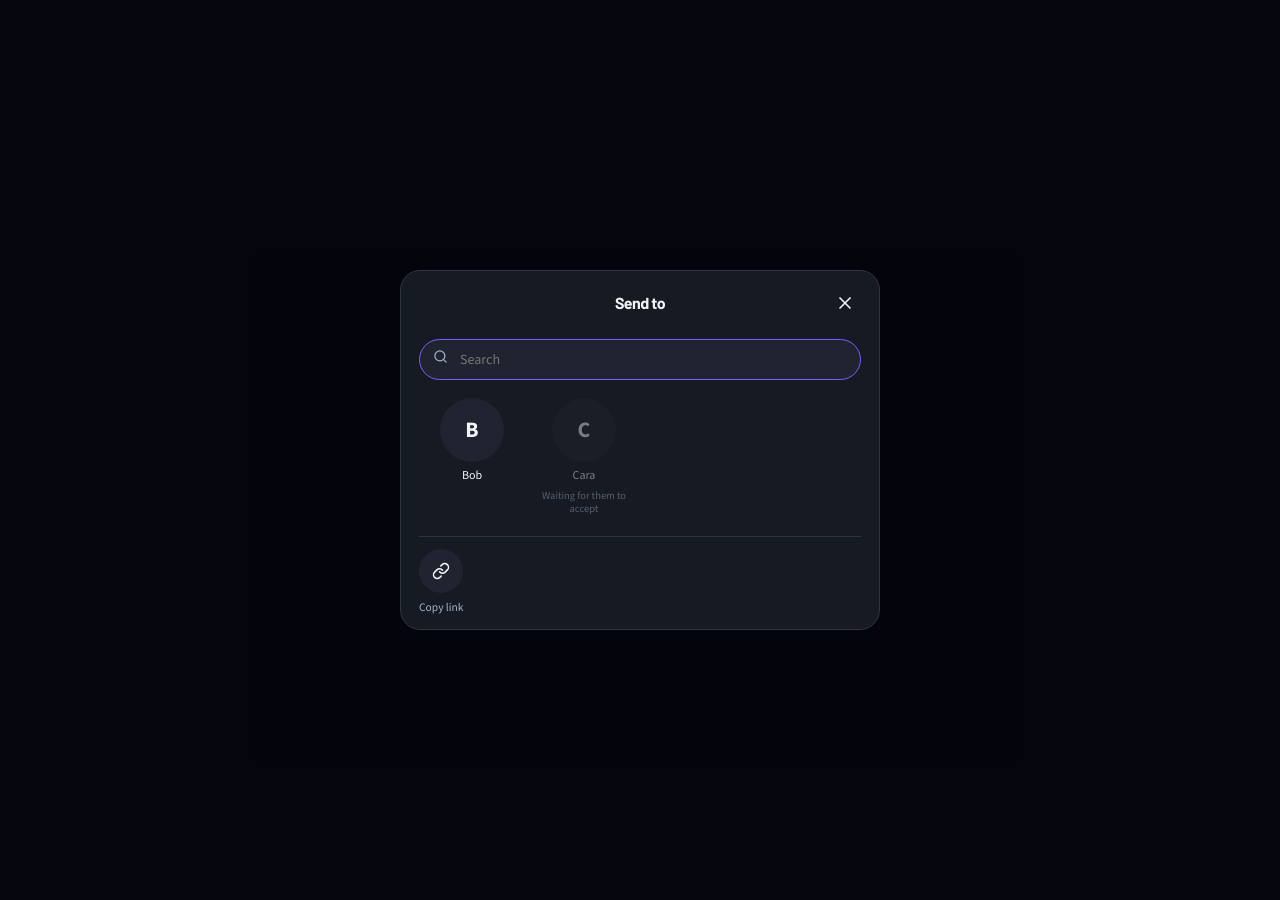
Test case: SharePostDialog › shows no message bar or send button until someone is picked
Click the checkbox labelled "B Bob".
click(472, 456)  # box [419,398,525,514]
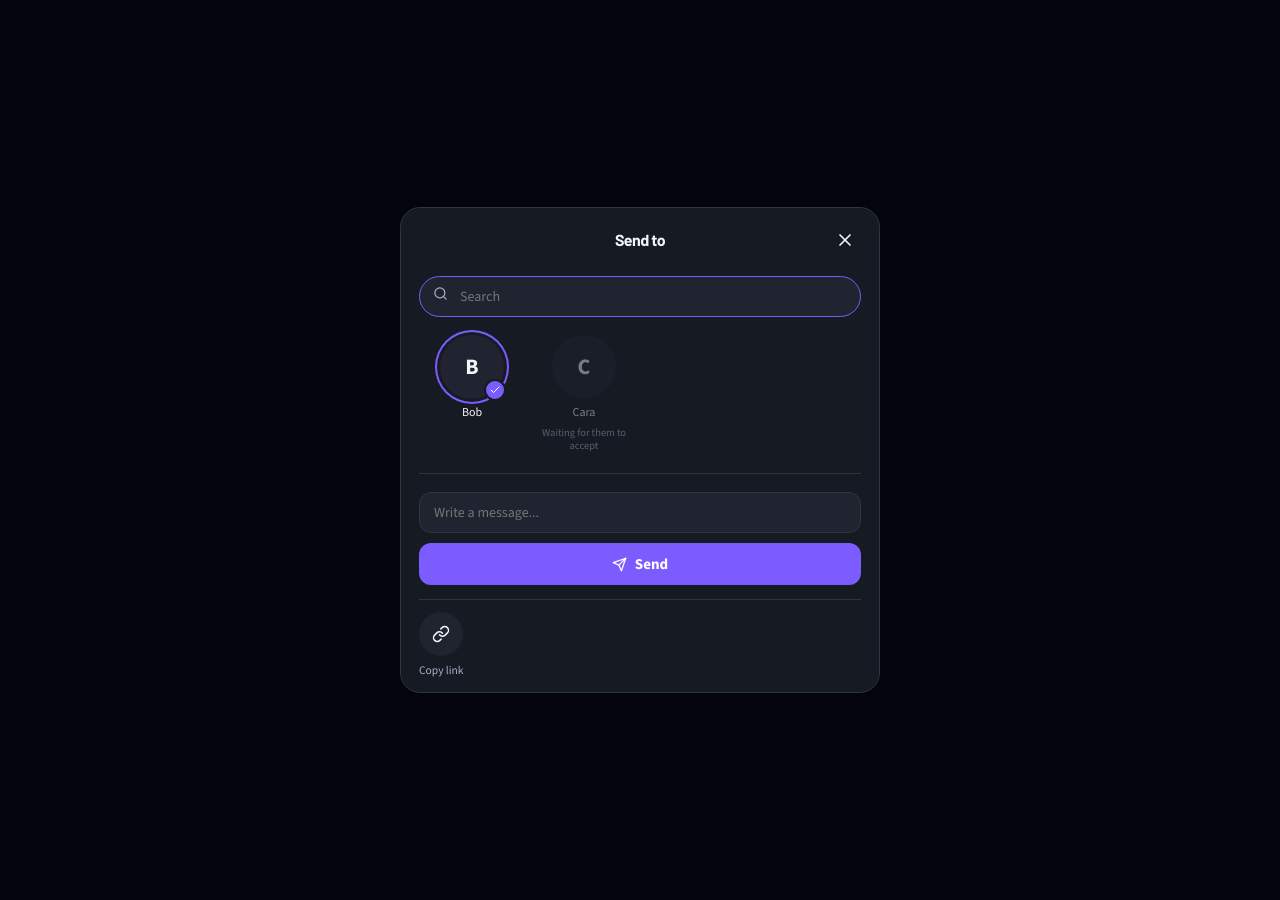
Now the button "Send" is enabled, box [419,543,861,585]
Now the field with placeholder "Write a message..." is shown, box [419,492,861,533]
